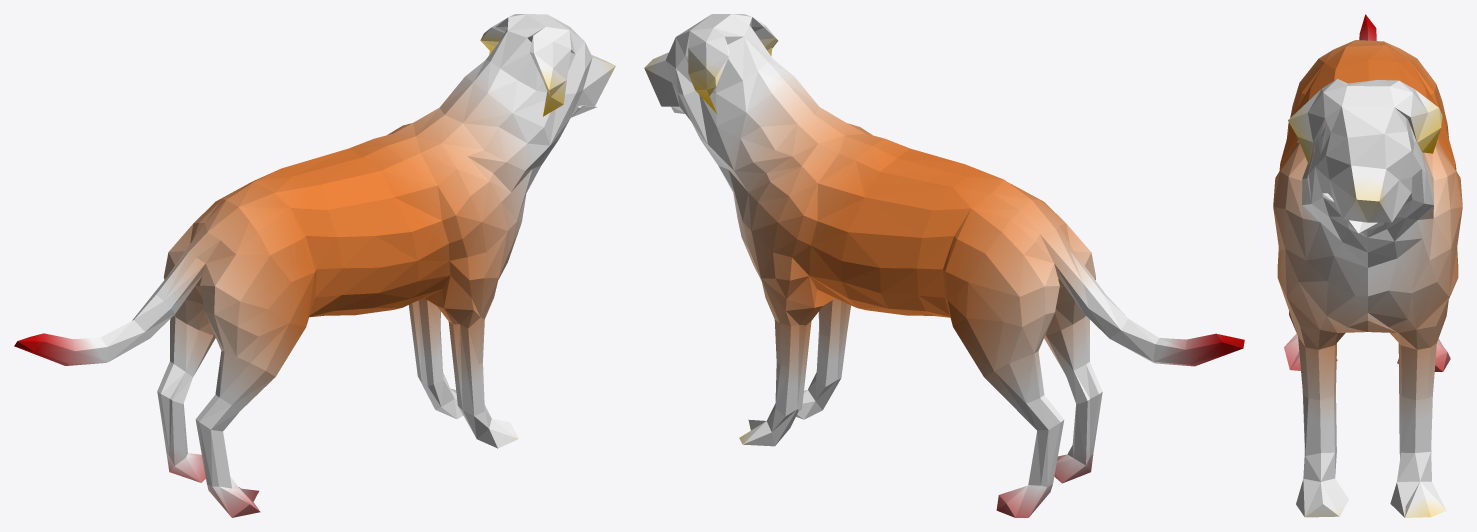
Rendered from maxAlphaTarget.obj.
The picture shows the model from 3 angles, left to right: view 1: azimuth 30°, elevation 25°; view 2: azimuth 150°, elevation 25°; view 3: azimuth 270°, elevation 25°; orthographic projection. The views are drawn at different scales.
Bounding box in the file's own units: 1.42 × 0.8938 × 0.3318.
1 material, 1 textured.
